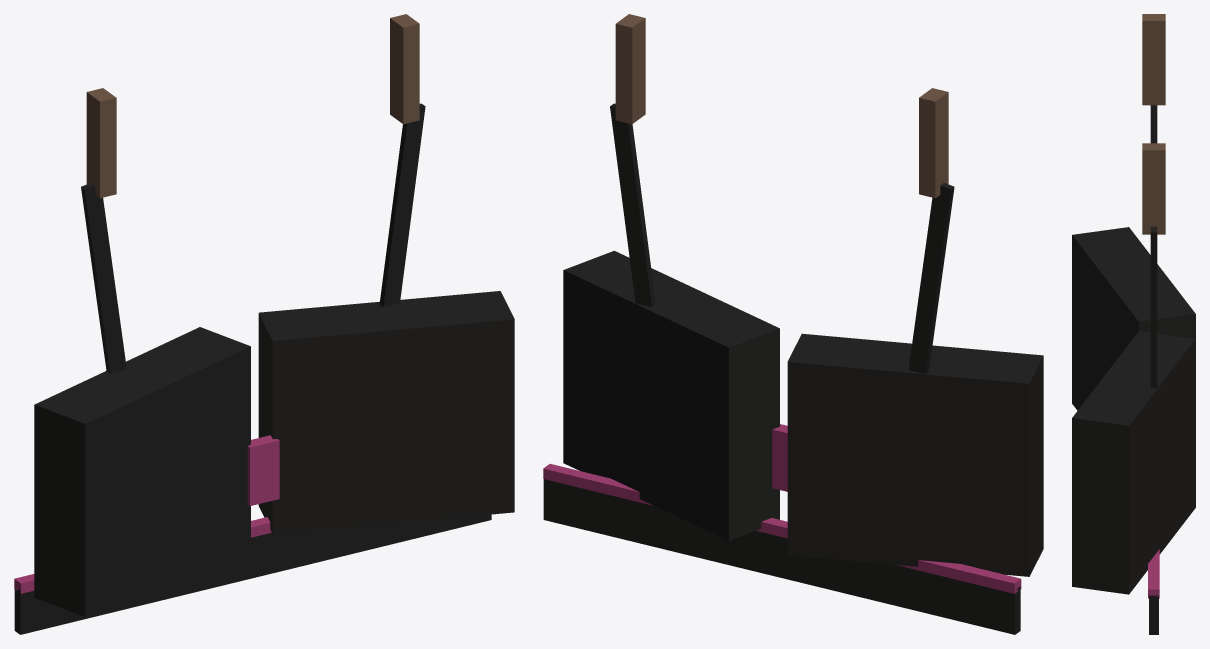
The model's file is bra-line-vibe.glb.
3 views of the same model, side by side, from view 1: azimuth 30°, elevation 25°; view 2: azimuth 150°, elevation 25°; view 3: azimuth 270°, elevation 25° (orthographic). The views are drawn at different scales.
Parts seen in each view (by area): view 1: rubber, wood, accent-magenta; view 2: rubber, wood, accent-magenta; view 3: rubber, wood, accent-magenta.
Boxes of the visible parts, x1=… form: rubber: x1=14, y1=103, x2=514, y2=634; wood: x1=86, y1=14, x2=419, y2=198; accent-magenta: x1=14, y1=435, x2=279, y2=593; rubber: x1=543, y1=103, x2=1043, y2=634; wood: x1=615, y1=14, x2=948, y2=198; accent-magenta: x1=543, y1=424, x2=1021, y2=593; rubber: x1=1072, y1=105, x2=1195, y2=634; wood: x1=1142, y1=14, x2=1165, y2=234; accent-magenta: x1=1148, y1=549, x2=1159, y2=598.
Bounding box in the file's own units: 0.286 × 0.3 × 0.0744.
